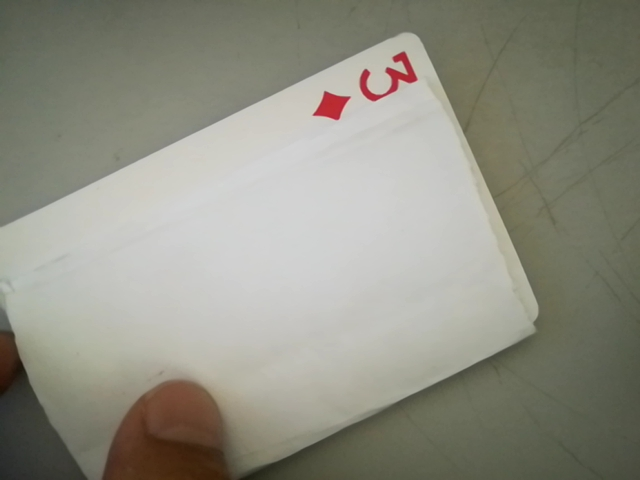fk 3: (309, 46, 431, 122)
